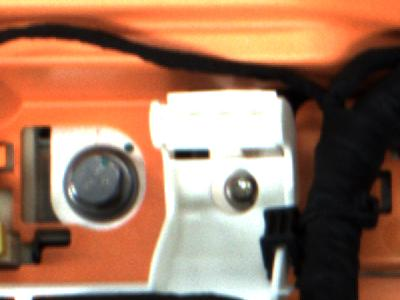nut_b: (61, 140, 145, 226)
